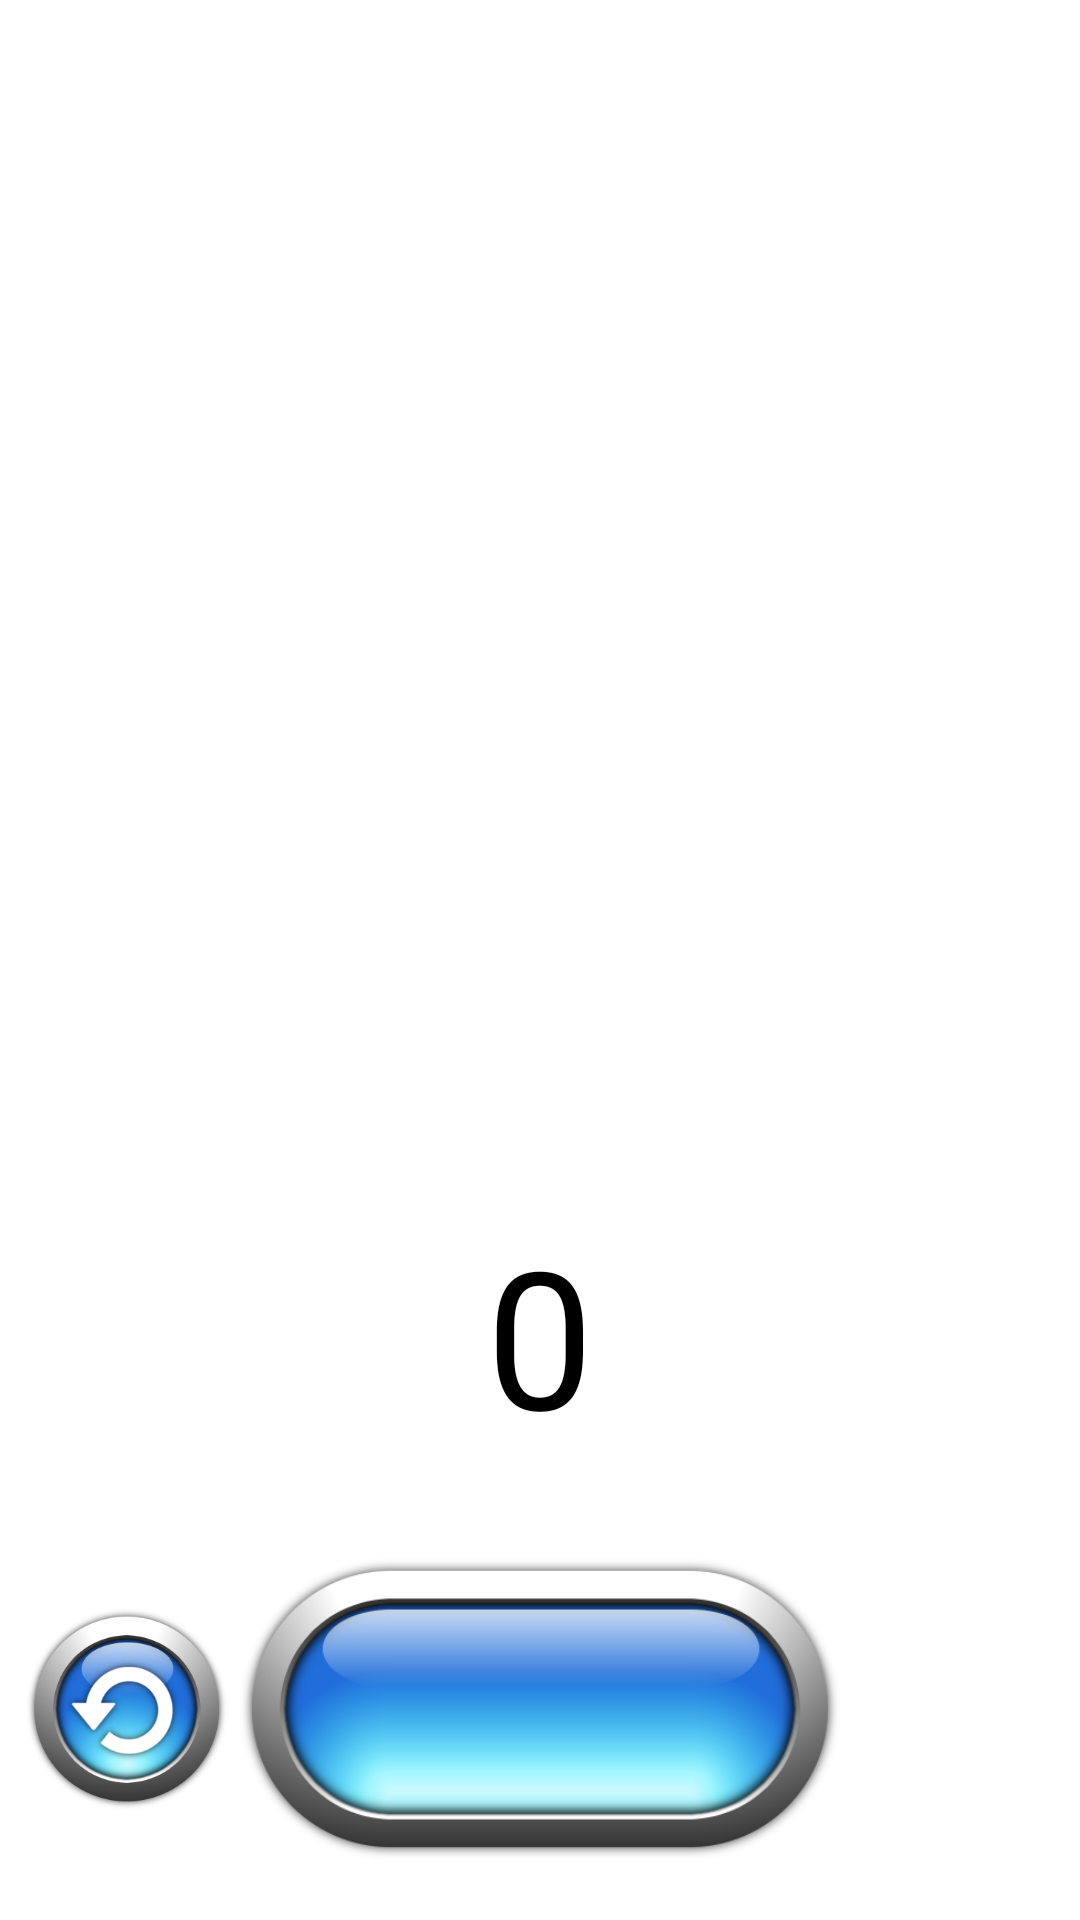

Screen size 1080 x 1920. Icon name, then its center in pixels as point (x, y):
reset: point (126, 1709)
